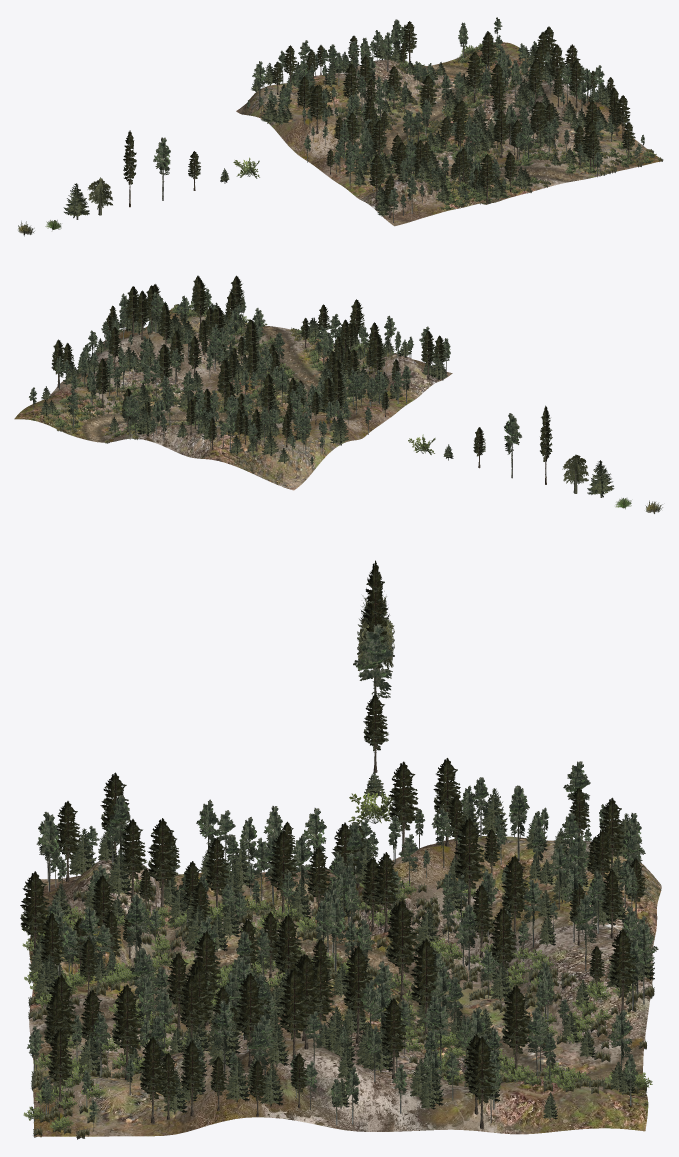
The model's file is forest.glb.
3 views of the same model, one above another, from view 1: azimuth 30°, elevation 25°; view 2: azimuth 150°, elevation 25°; view 3: azimuth 270°, elevation 25° (orthographic). The views are drawn at different scales.
Parts seen in each view (by area): view 1: 05ade0e713892be558511d706fa6c547-no-bg-preview (carve.photos, Plane.002_Material.003_0, Cylinder.001_Material.004_0; view 2: 05ade0e713892be558511d706fa6c547-no-bg-preview (carve.photos, Plane.002_Material.003_0, Cylinder.001_Material.004_0; view 3: 05ade0e713892be558511d706fa6c547-no-bg-preview (carve.photos, Plane.002_Material.003_0, Cylinder.001_Material.004_0.
Part boxes in pixels (box(x1,y1,x2,y2)): 05ade0e713892be558511d706fa6c547-no-bg-preview (carve.photos: box(18, 17, 663, 236); Plane.002_Material.003_0: box(236, 42, 662, 226); Cylinder.001_Material.004_0: box(129, 31, 629, 218); 05ade0e713892be558511d706fa6c547-no-bg-preview (carve.photos: box(29, 275, 662, 513); Plane.002_Material.003_0: box(14, 307, 452, 490); Cylinder.001_Material.004_0: box(57, 278, 546, 484); 05ade0e713892be558511d706fa6c547-no-bg-preview (carve.photos: box(20, 560, 658, 1139); Plane.002_Material.003_0: box(29, 836, 661, 1136); Cylinder.001_Material.004_0: box(33, 565, 637, 1129).
Bounding box in the file's own units: 19.24 × 2.85 × 9.74.
3 materials, 3 textured.
